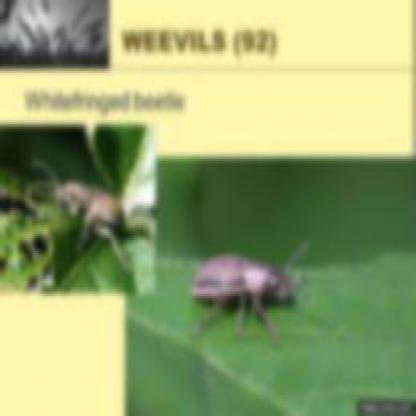ash weevil: (187, 250, 299, 338)
